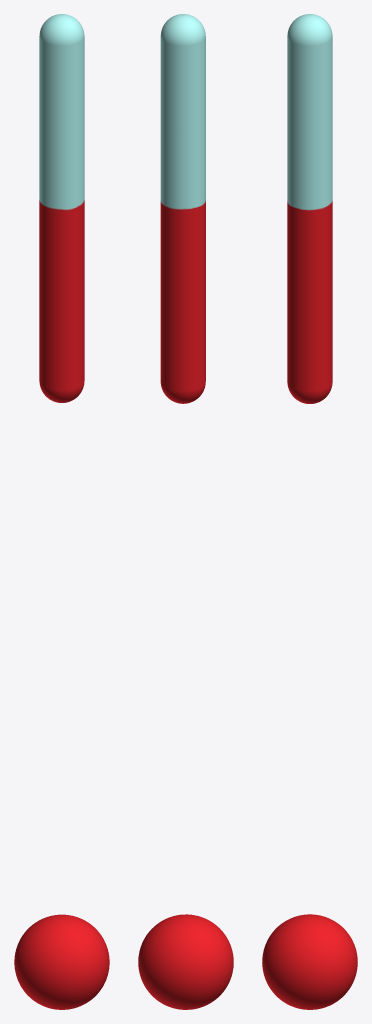
File: thermometer.glb
3 renders of one model, left to right at view 1: azimuth 90°, elevation 25°; view 2: azimuth 210°, elevation 25°; view 3: azimuth 270°, elevation 25°, orthographic.
Visible parts, largest first — view 1: node_id5, node_id8; view 2: node_id5, node_id8; view 3: node_id5, node_id8.
Boxes of the visible parts, x1,y1,x2,y2 form: node_id5: (39, 14, 84, 402); node_id8: (14, 914, 109, 1009); node_id5: (160, 14, 205, 403); node_id8: (138, 914, 233, 1009); node_id5: (287, 14, 332, 403); node_id8: (262, 914, 357, 1009).
Bounding box in the file's own units: 0.0778 × 0.889 × 0.0778.
2 materials, 2 textured.
